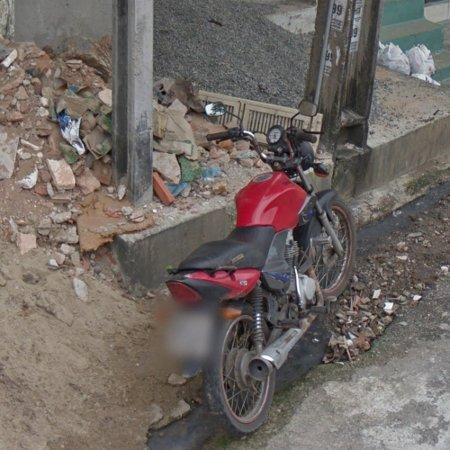motorcycles: (168, 128, 356, 433)
